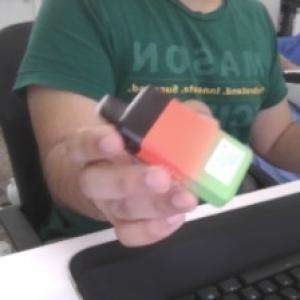Swift-E-Ciggirate: (94, 81, 257, 208)
